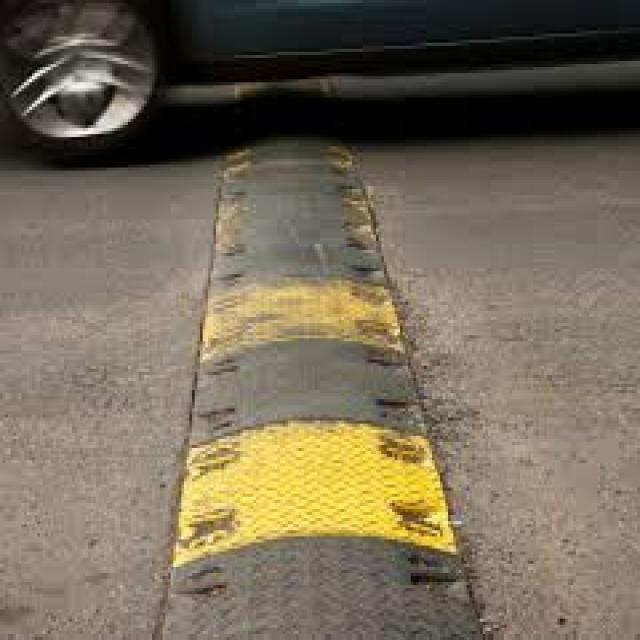speedbreaker: (190, 148, 447, 640)
